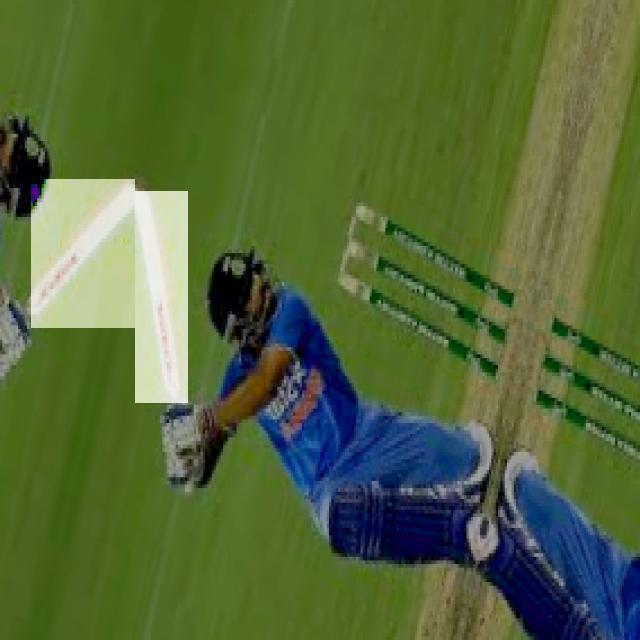bat: (131, 191, 194, 398)
